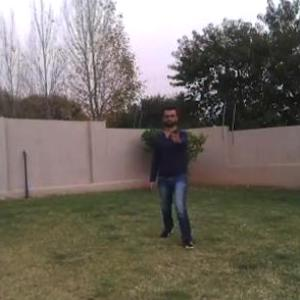takeoff-hand: (167, 124, 187, 152)
